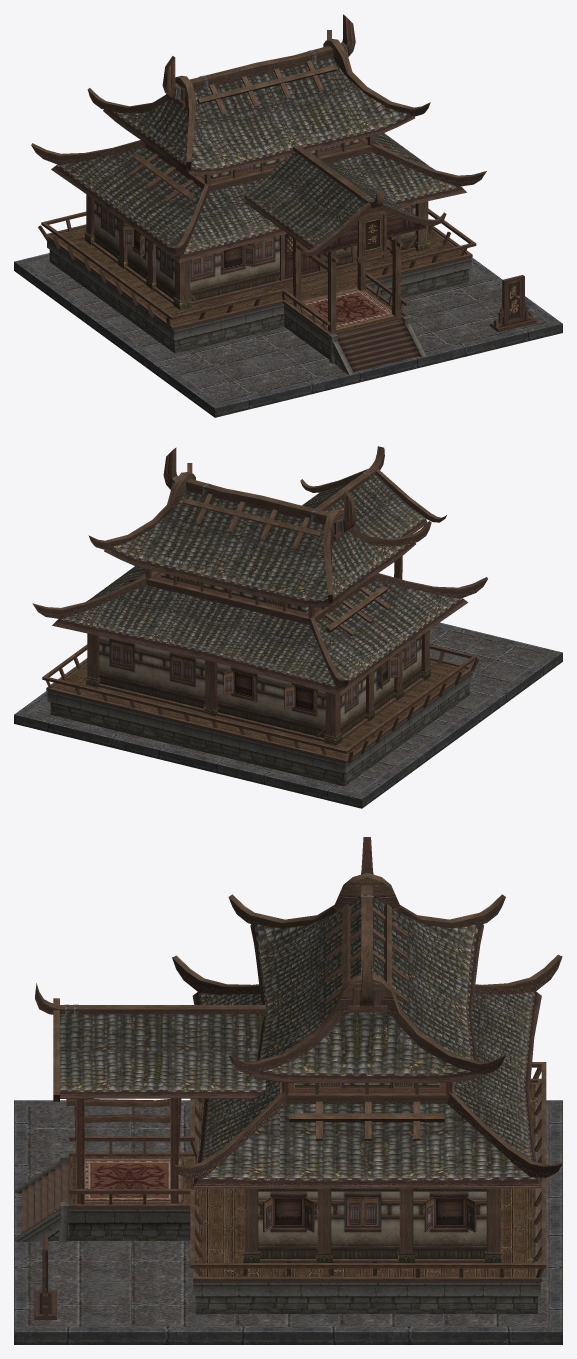
The picture shows the model from 3 angles, top to bottom: view 1: azimuth 30°, elevation 25°; view 2: azimuth 150°, elevation 25°; view 3: azimuth 270°, elevation 25°; orthographic projection. The views are drawn at different scales.
Visible parts, largest first — view 1: g_10; view 2: g_10; view 3: g_10.
Boxes of the visible parts, left/top/right/bottom form: g_10: left=14, top=14, right=562, bottom=417; g_10: left=14, top=446, right=562, bottom=808; g_10: left=14, top=837, right=562, bottom=1344.
Bounding box in the file's own units: 20 × 13.45 × 20.
2 materials, 2 textured.
